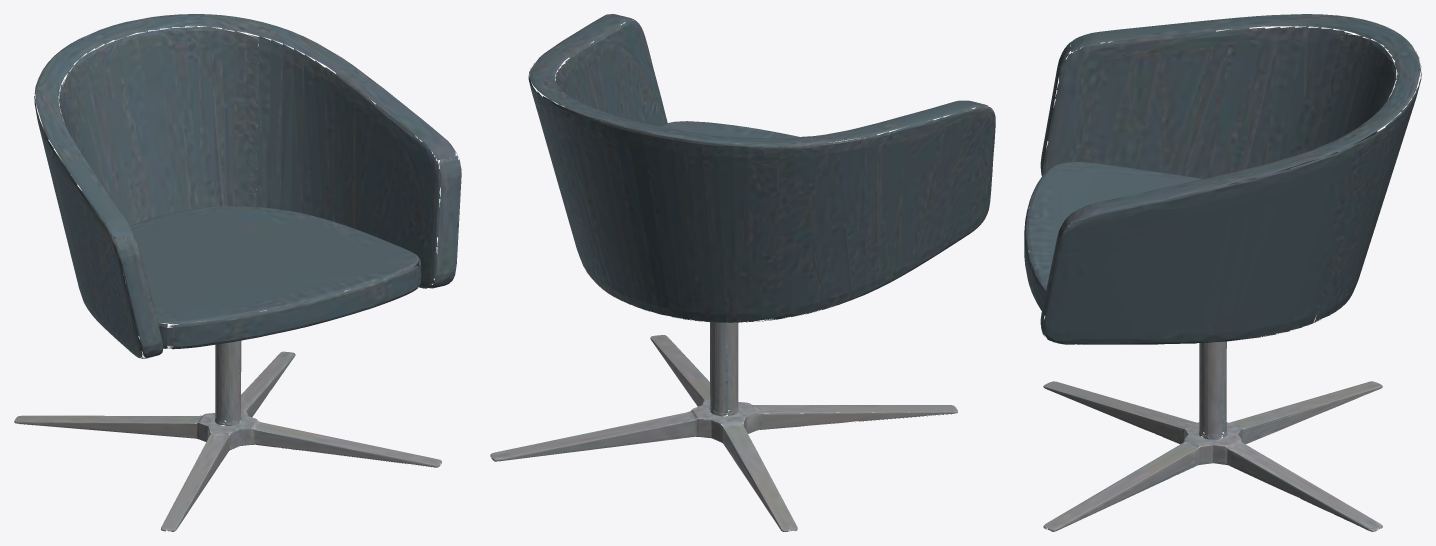
File: chair_armchair_3.glb
3 views of the same model, side by side, from view 1: azimuth 30°, elevation 25°; view 2: azimuth 150°, elevation 25°; view 3: azimuth 270°, elevation 25° (orthographic). The views are drawn at different scales.
Visible parts, largest first — view 1: chair_armchair_3; view 2: chair_armchair_3; view 3: chair_armchair_3.
Part boxes in pixels (x1,y1,x2,y2): chair_armchair_3: [14, 14, 461, 531]; chair_armchair_3: [490, 14, 995, 531]; chair_armchair_3: [1024, 14, 1421, 531].
Bounding box in the file's own units: 1.73 × 1.69 × 1.58.
Materials: 1 (1 with a texture image).
